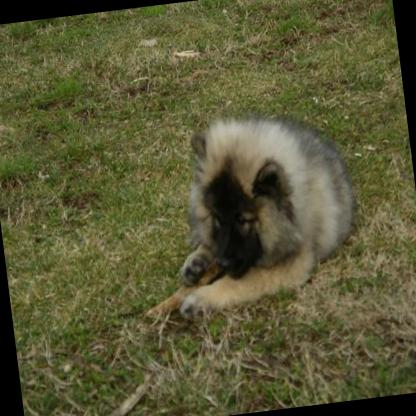keeshond: (160, 104, 360, 315)
